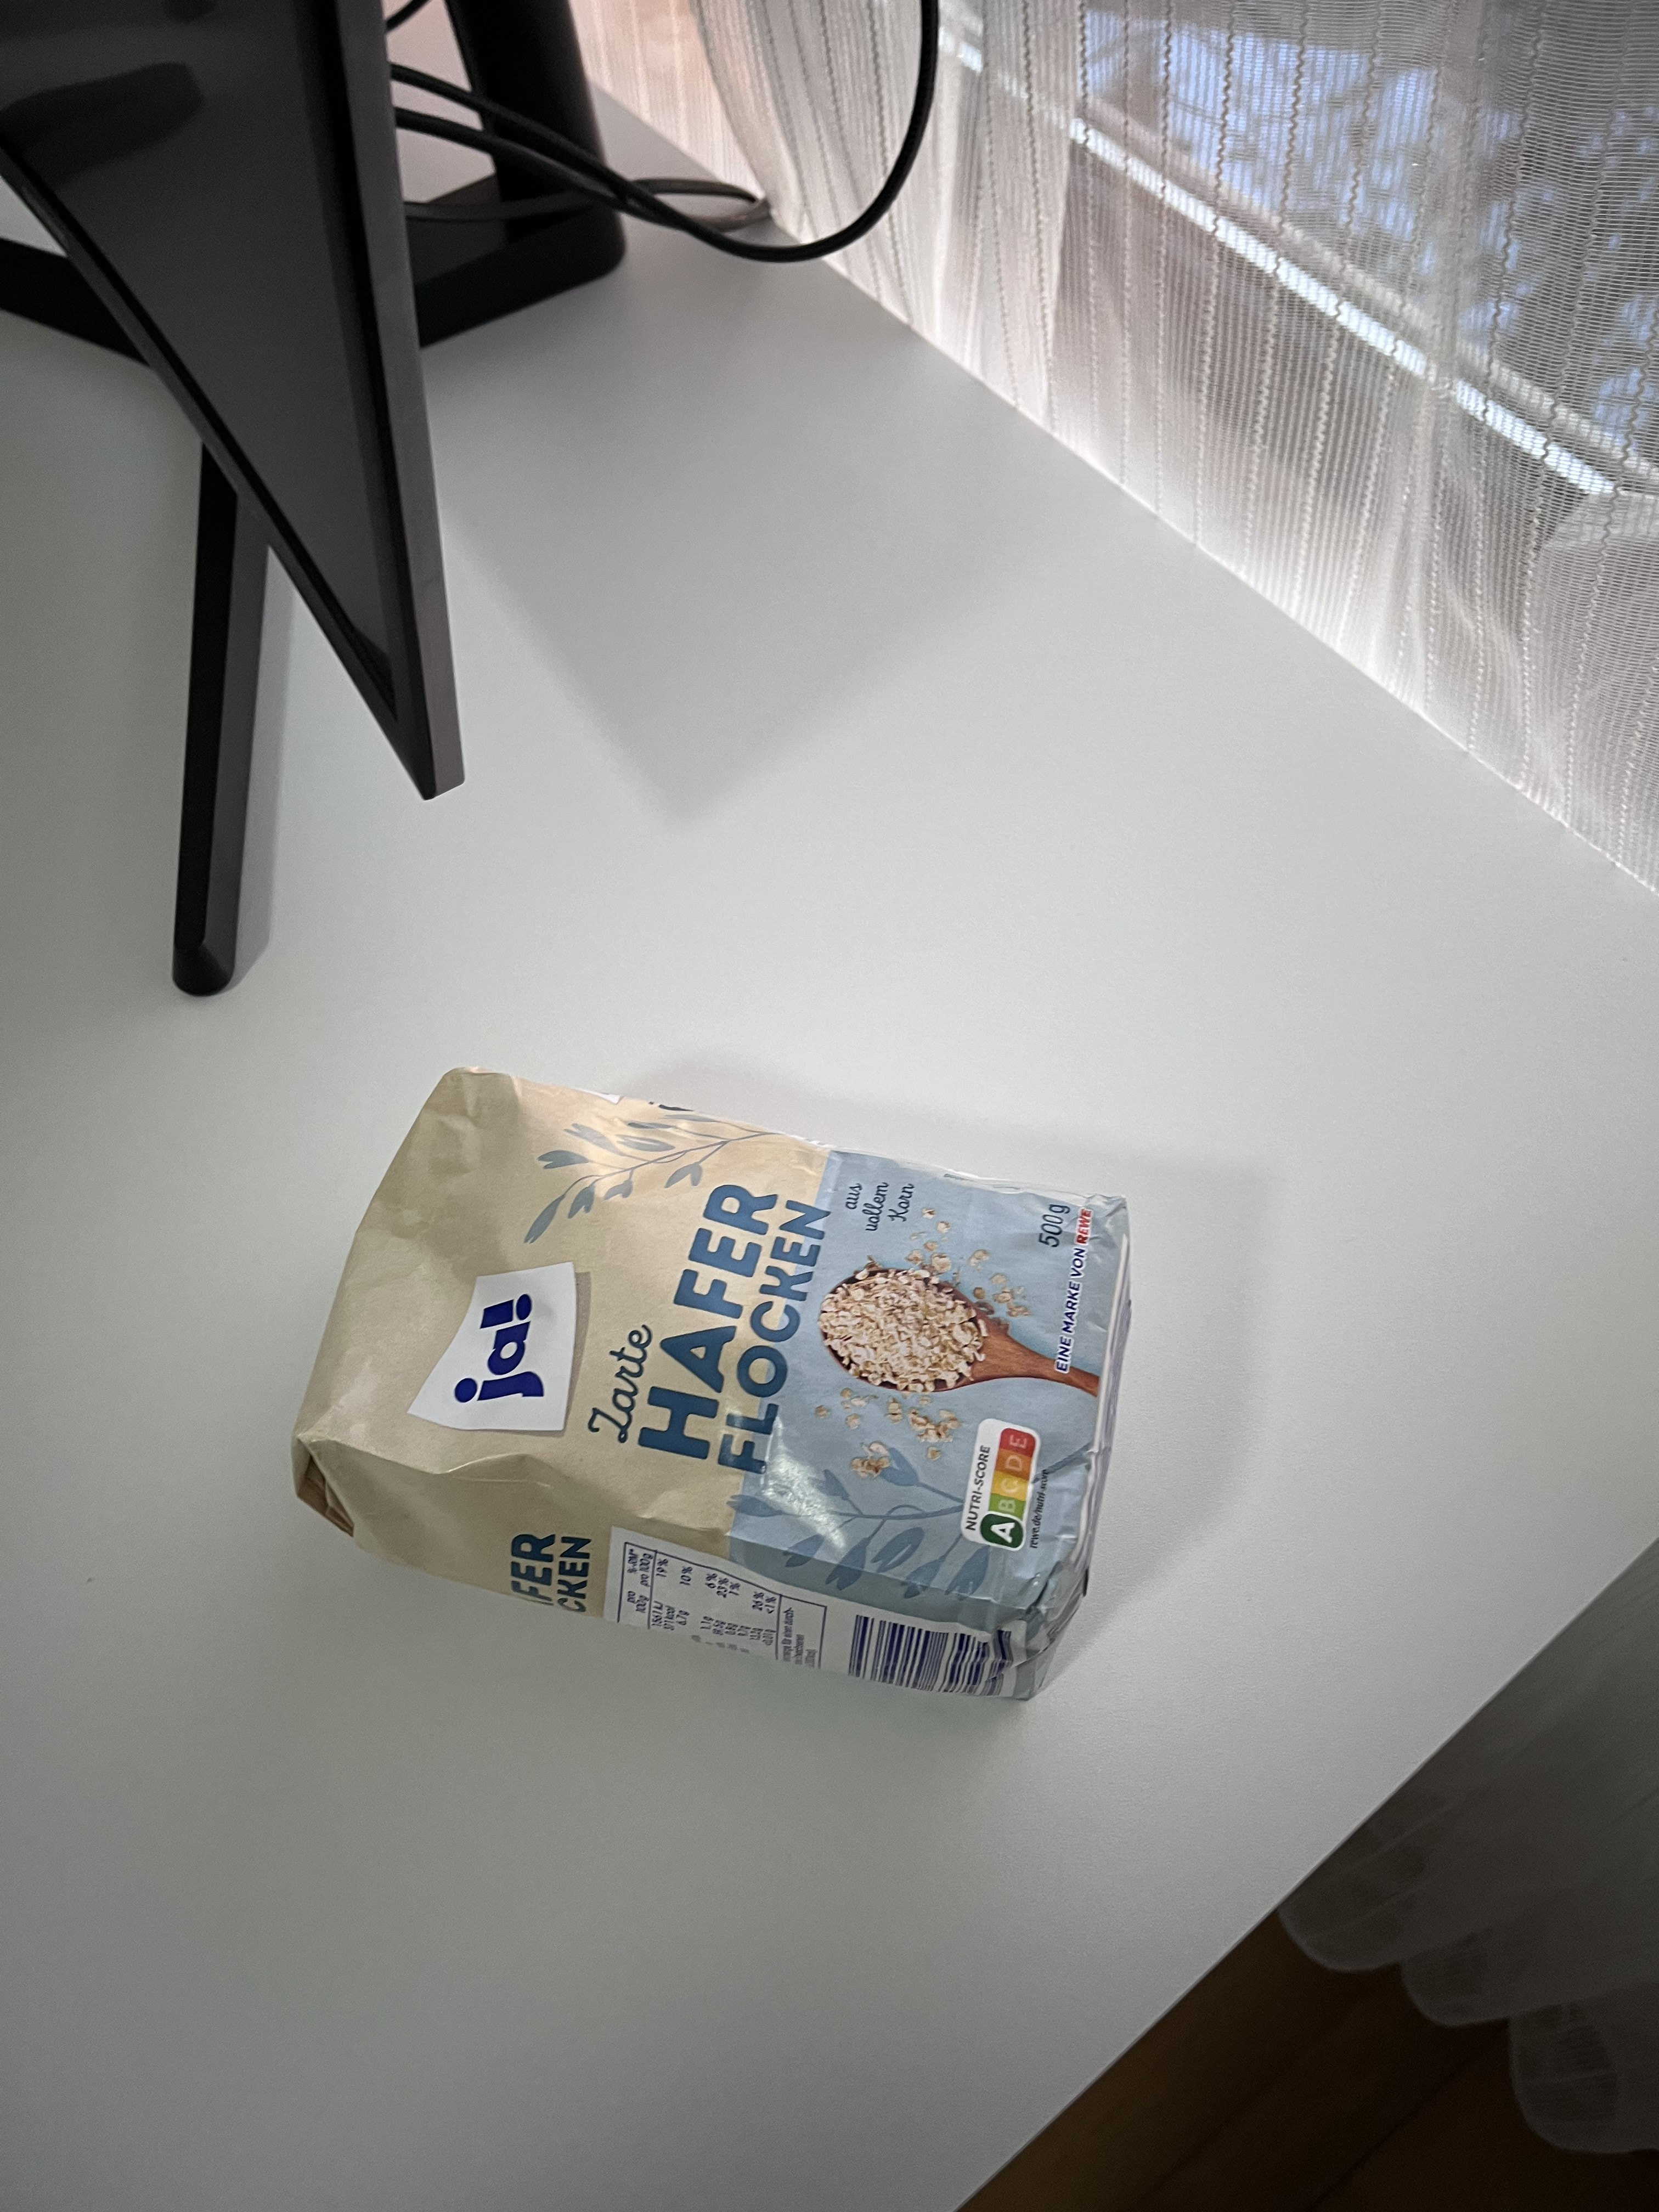haferflocken_ja: (289, 1066, 1140, 1714)
